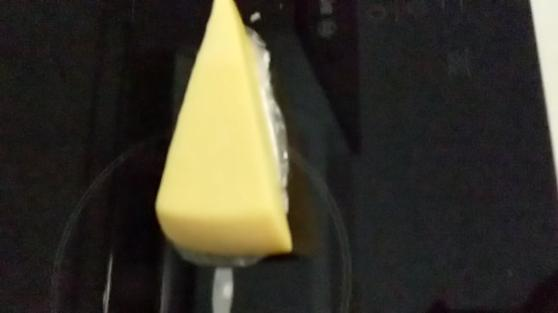cheese: (154, 1, 303, 256)
